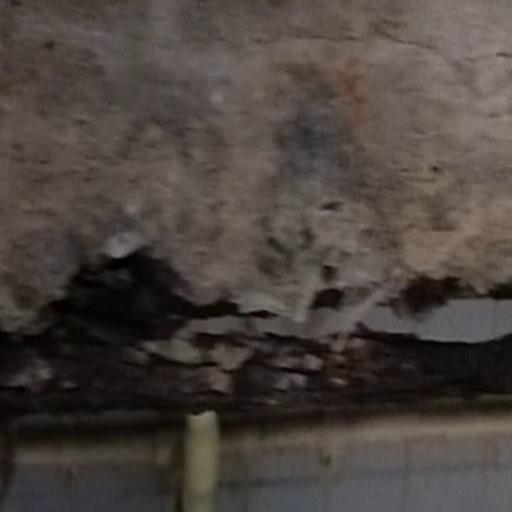spalling: (10, 3, 512, 405)
